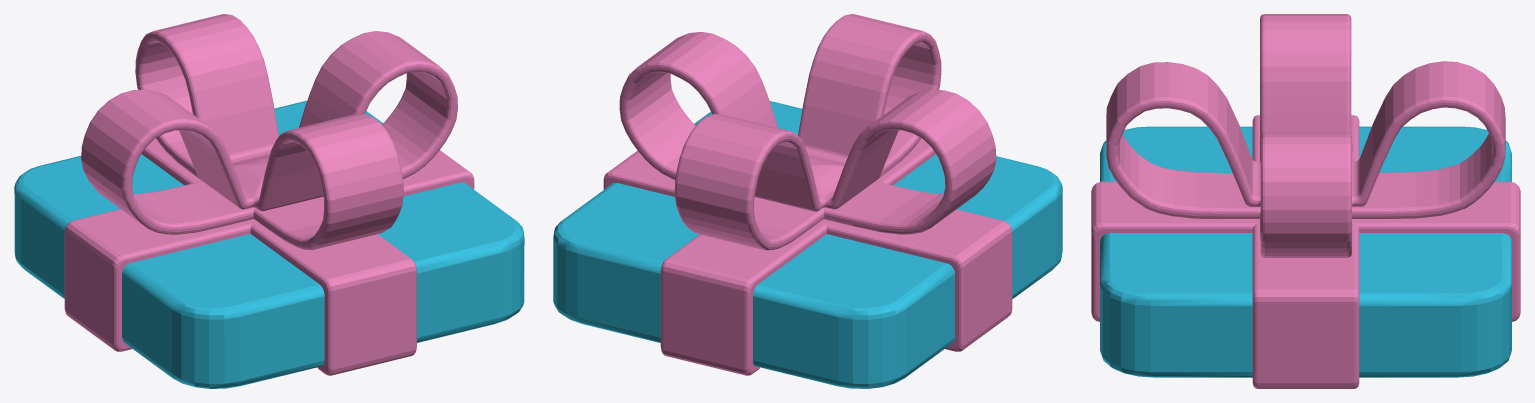
Rendered from LV28_boxlid.fbx.
3 renders of one model, left to right at view 1: azimuth 30°, elevation 25°; view 2: azimuth 150°, elevation 25°; view 3: azimuth 270°, elevation 25°, orthographic. The views are drawn at different scales.
Parts seen in each view (by area): view 1: box lid; view 2: box lid; view 3: box lid.
Part boxes in pixels (left/top/right/bottom): box lid: left=14, top=14, right=524, bottom=388; box lid: left=553, top=14, right=1062, bottom=388; box lid: left=1091, top=14, right=1520, bottom=388.
Size of the model in its own units: 1.14 by 0.6493 by 1.14.
1 material, 1 textured.
